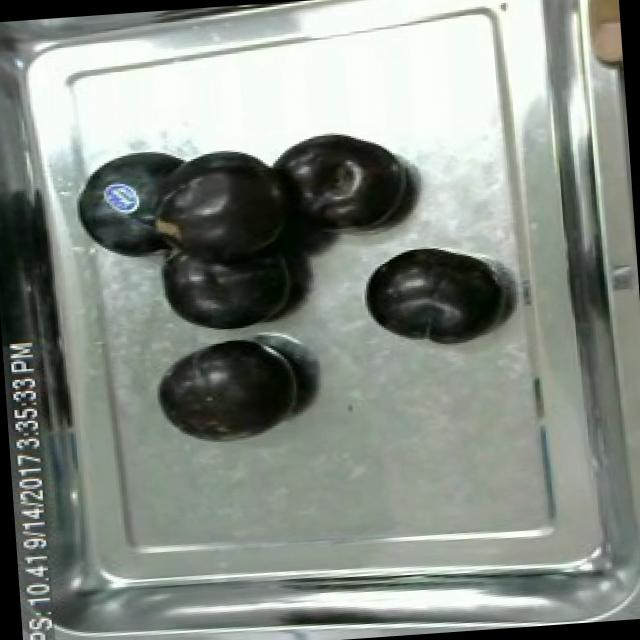Fruit: (144, 147, 298, 276), (150, 328, 310, 450), (150, 232, 306, 344), (355, 241, 508, 355), (270, 127, 418, 241), (66, 141, 196, 267), (567, 0, 624, 83)
